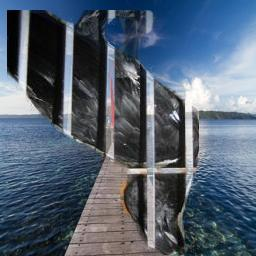Crow: (7, 11, 199, 256)
